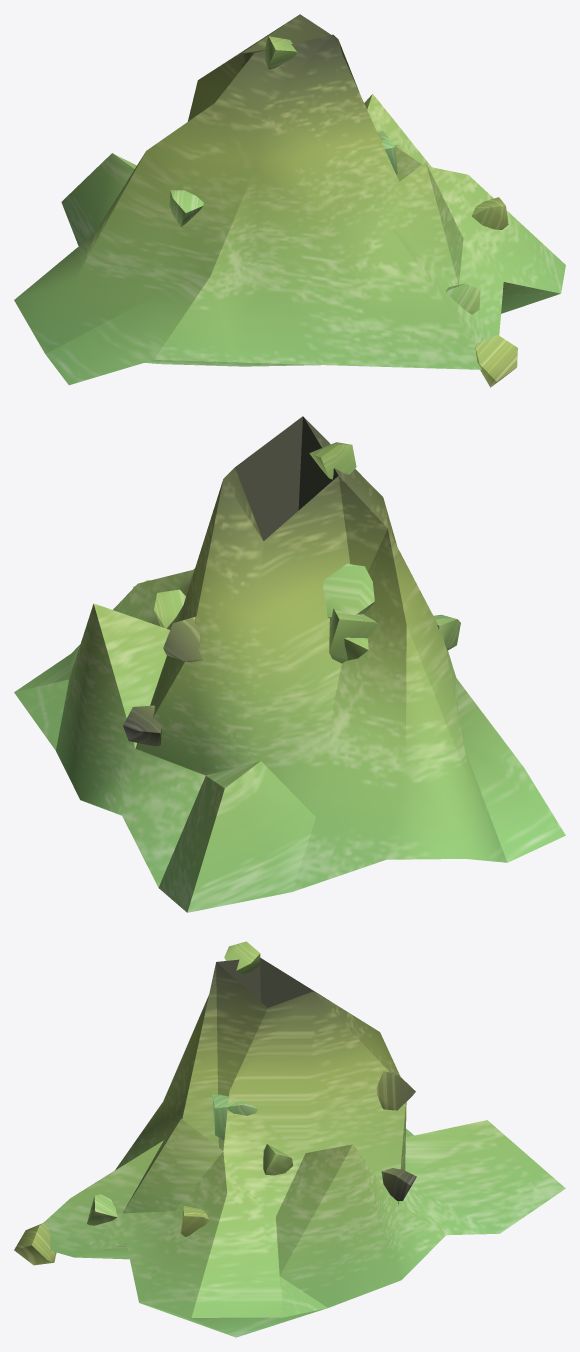
The model's file is GREEN_vent.fbx.
3 views of the same model, one above another, from view 1: azimuth 30°, elevation 25°; view 2: azimuth 150°, elevation 25°; view 3: azimuth 270°, elevation 25° (orthographic). The views are drawn at different scales.
Parts seen in each view (by area): view 1: GREEN vent; view 2: GREEN vent; view 3: GREEN vent.
Part boxes in pixels (box(x1,y1,x2,y2)): GREEN vent: box(14, 14, 565, 387); GREEN vent: box(14, 416, 565, 912); GREEN vent: box(14, 941, 565, 1337).
Bounding box in the file's own units: 106098 × 70167 × 115611.
